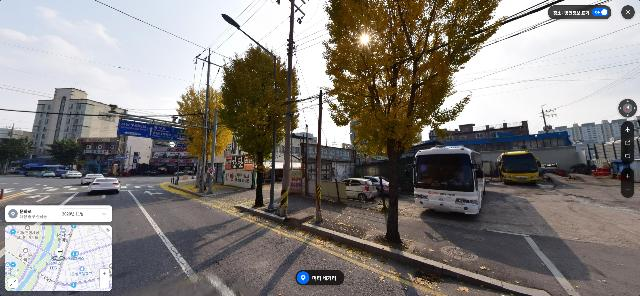ginkgo: (323, 0, 513, 246), (220, 39, 303, 207), (175, 84, 236, 191)
other: (1, 137, 30, 167), (55, 139, 81, 166)
